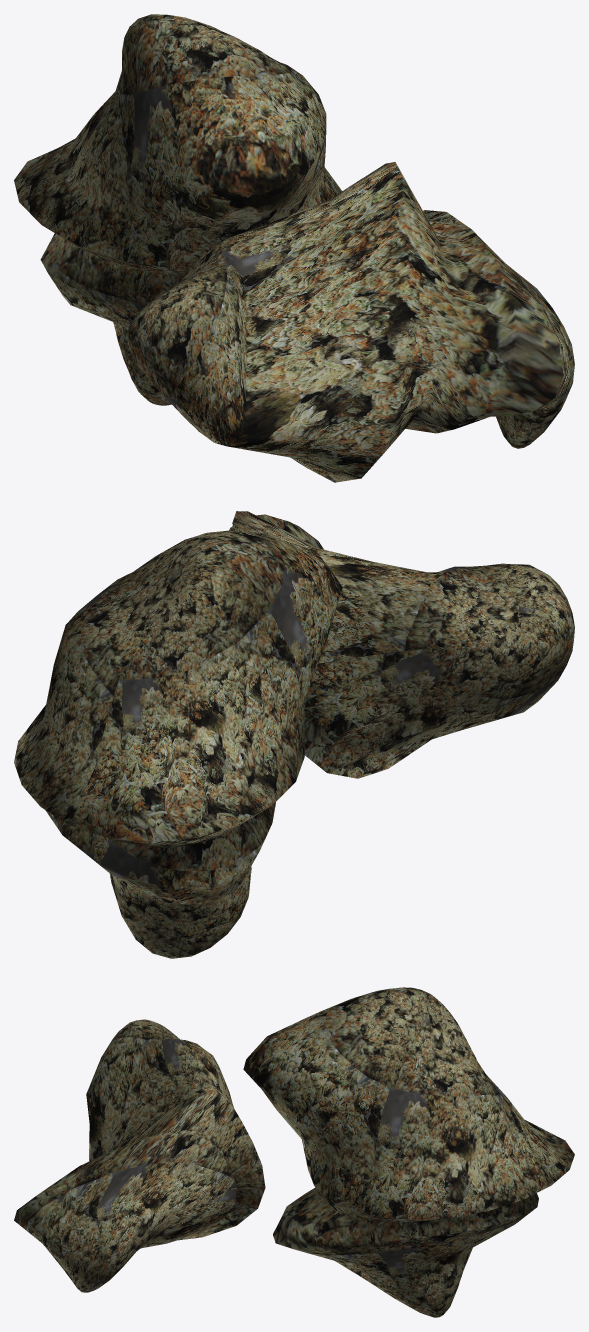
File: weed_nugs.fbx
3 views of the same model, one above another, from view 1: azimuth 30°, elevation 25°; view 2: azimuth 150°, elevation 25°; view 3: azimuth 270°, elevation 25° (orthographic). The views are drawn at different scales.
Parts seen in each view (by area): view 1: pSphere2, pSphere1; view 2: pSphere1, pSphere2; view 3: pSphere1, pSphere2.
Boxes of the visible parts, x1,y1,x2,y2 form: pSphere2: [127, 162, 574, 482]; pSphere1: [14, 14, 341, 405]; pSphere1: [14, 530, 342, 958]; pSphere2: [229, 511, 574, 778]; pSphere1: [243, 987, 574, 1317]; pSphere2: [14, 1019, 265, 1292].
Size of the model in its own units: 53.75 by 51.46 by 83.41.
